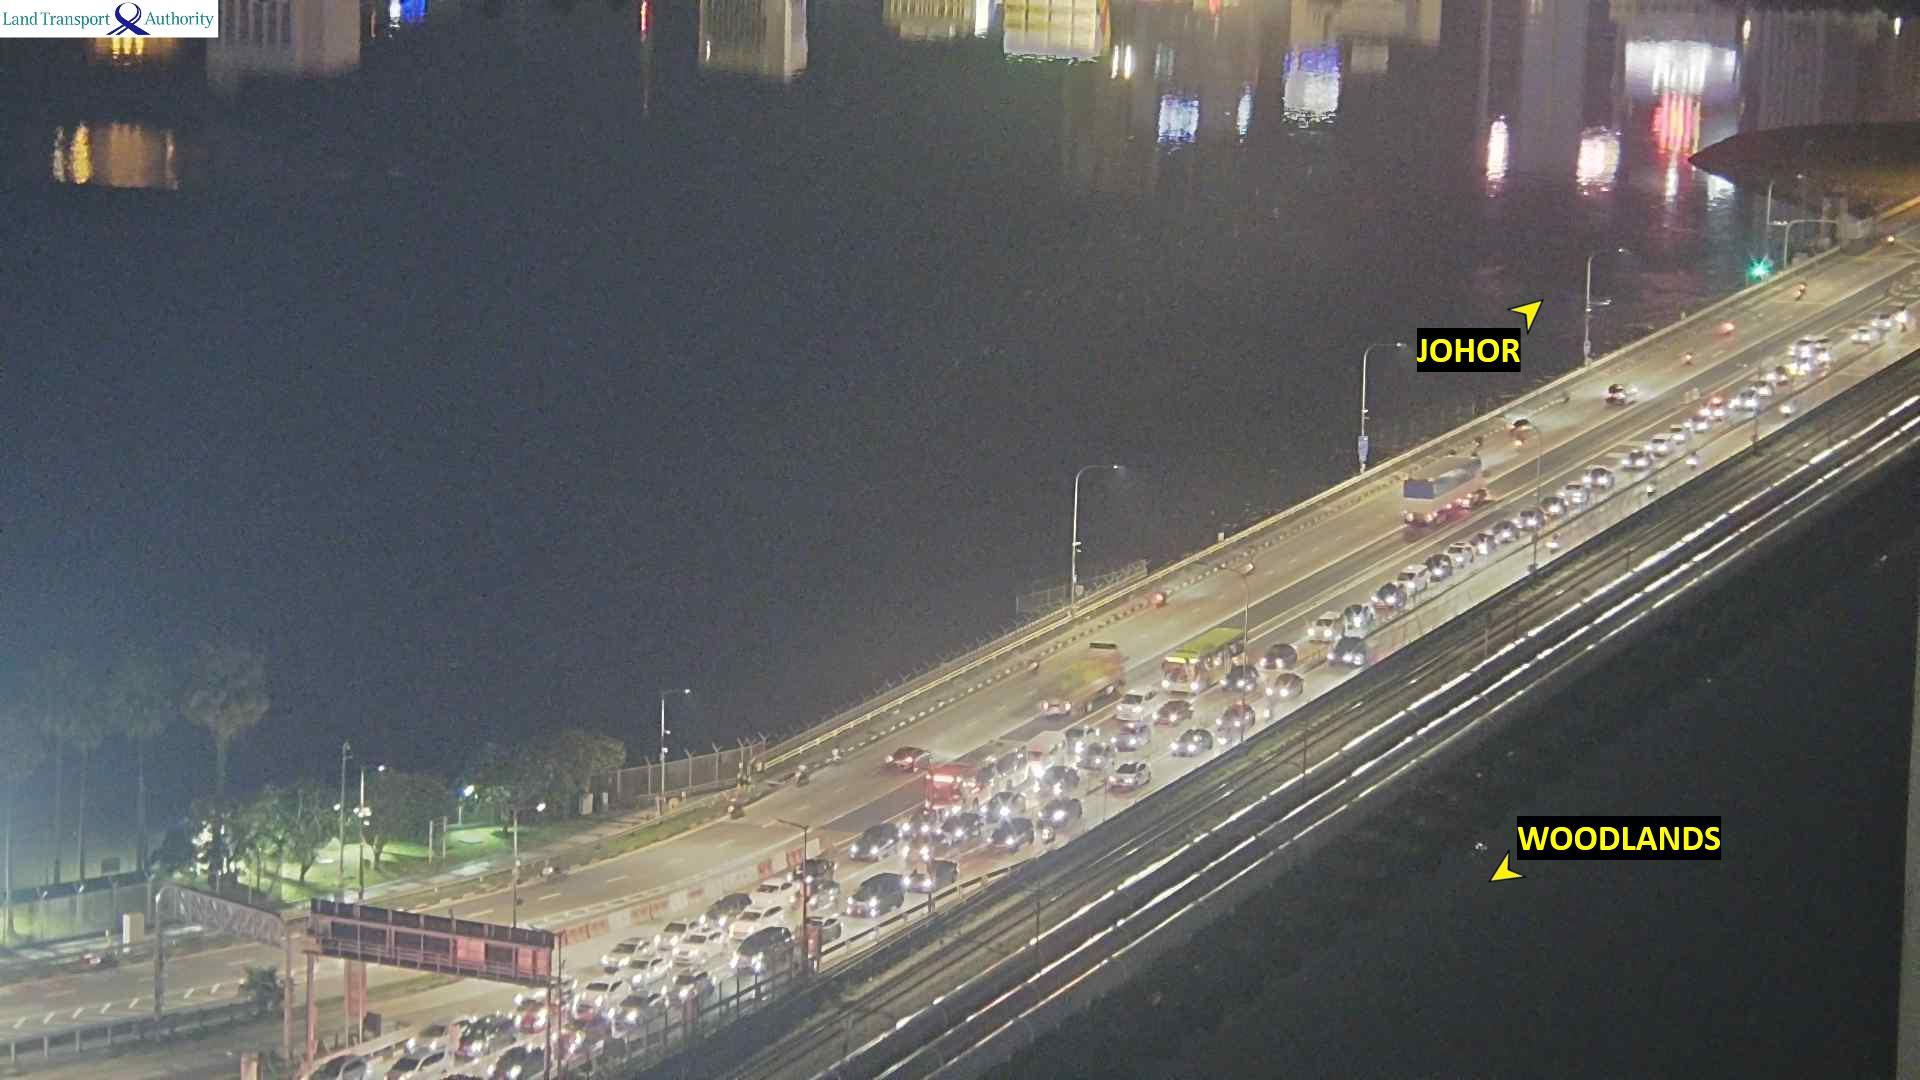vehicle-causeway-johor: (1042, 654, 1127, 721), (1403, 456, 1486, 525), (887, 746, 931, 773), (1607, 382, 1639, 407), (728, 793, 745, 819), (795, 762, 811, 787), (1088, 642, 1120, 653), (1149, 591, 1167, 607), (832, 744, 844, 764), (1680, 351, 1695, 364), (1245, 560, 1257, 575), (1796, 282, 1805, 301), (1721, 322, 1733, 335), (1474, 434, 1482, 446)
vehicle-causeway-singapore: (923, 737, 1029, 815), (1162, 628, 1244, 692), (455, 1014, 516, 1062), (731, 928, 791, 976), (845, 873, 905, 918), (402, 1014, 468, 1052), (551, 1017, 611, 1059), (848, 822, 901, 862), (489, 1042, 549, 1077), (673, 928, 728, 965), (615, 990, 666, 1029), (576, 976, 629, 1013), (666, 967, 715, 1006), (386, 1050, 448, 1080), (906, 858, 959, 893), (1114, 687, 1160, 723), (700, 893, 750, 924), (988, 819, 1033, 853), (1036, 765, 1081, 798), (620, 955, 670, 984), (1035, 798, 1083, 828), (655, 915, 700, 947), (604, 938, 651, 967), (315, 1054, 367, 1080), (1108, 760, 1151, 790), (1026, 733, 1065, 766), (753, 878, 799, 905), (1216, 703, 1254, 735), (1110, 725, 1154, 752), (1308, 611, 1341, 644), (1171, 729, 1212, 756), (1267, 673, 1304, 702), (1329, 636, 1366, 665), (793, 858, 837, 882), (1065, 724, 1100, 753), (1375, 580, 1407, 611), (1154, 700, 1192, 725), (1399, 564, 1429, 593), (1225, 666, 1258, 692), (1789, 335, 1830, 356), (1263, 642, 1298, 667), (1621, 447, 1654, 471), (902, 814, 936, 836), (1487, 518, 1519, 542), (1345, 604, 1370, 633), (1448, 542, 1474, 566), (1648, 434, 1675, 458), (1585, 465, 1614, 487), (1425, 555, 1451, 579), (1542, 495, 1567, 517), (1560, 481, 1585, 502), (1851, 327, 1882, 344), (1470, 533, 1494, 554), (1734, 390, 1756, 410), (1667, 425, 1691, 443), (1519, 506, 1542, 525), (1548, 533, 1561, 556), (1779, 398, 1793, 419), (1874, 314, 1892, 328), (1643, 479, 1656, 498), (1689, 451, 1701, 469)
